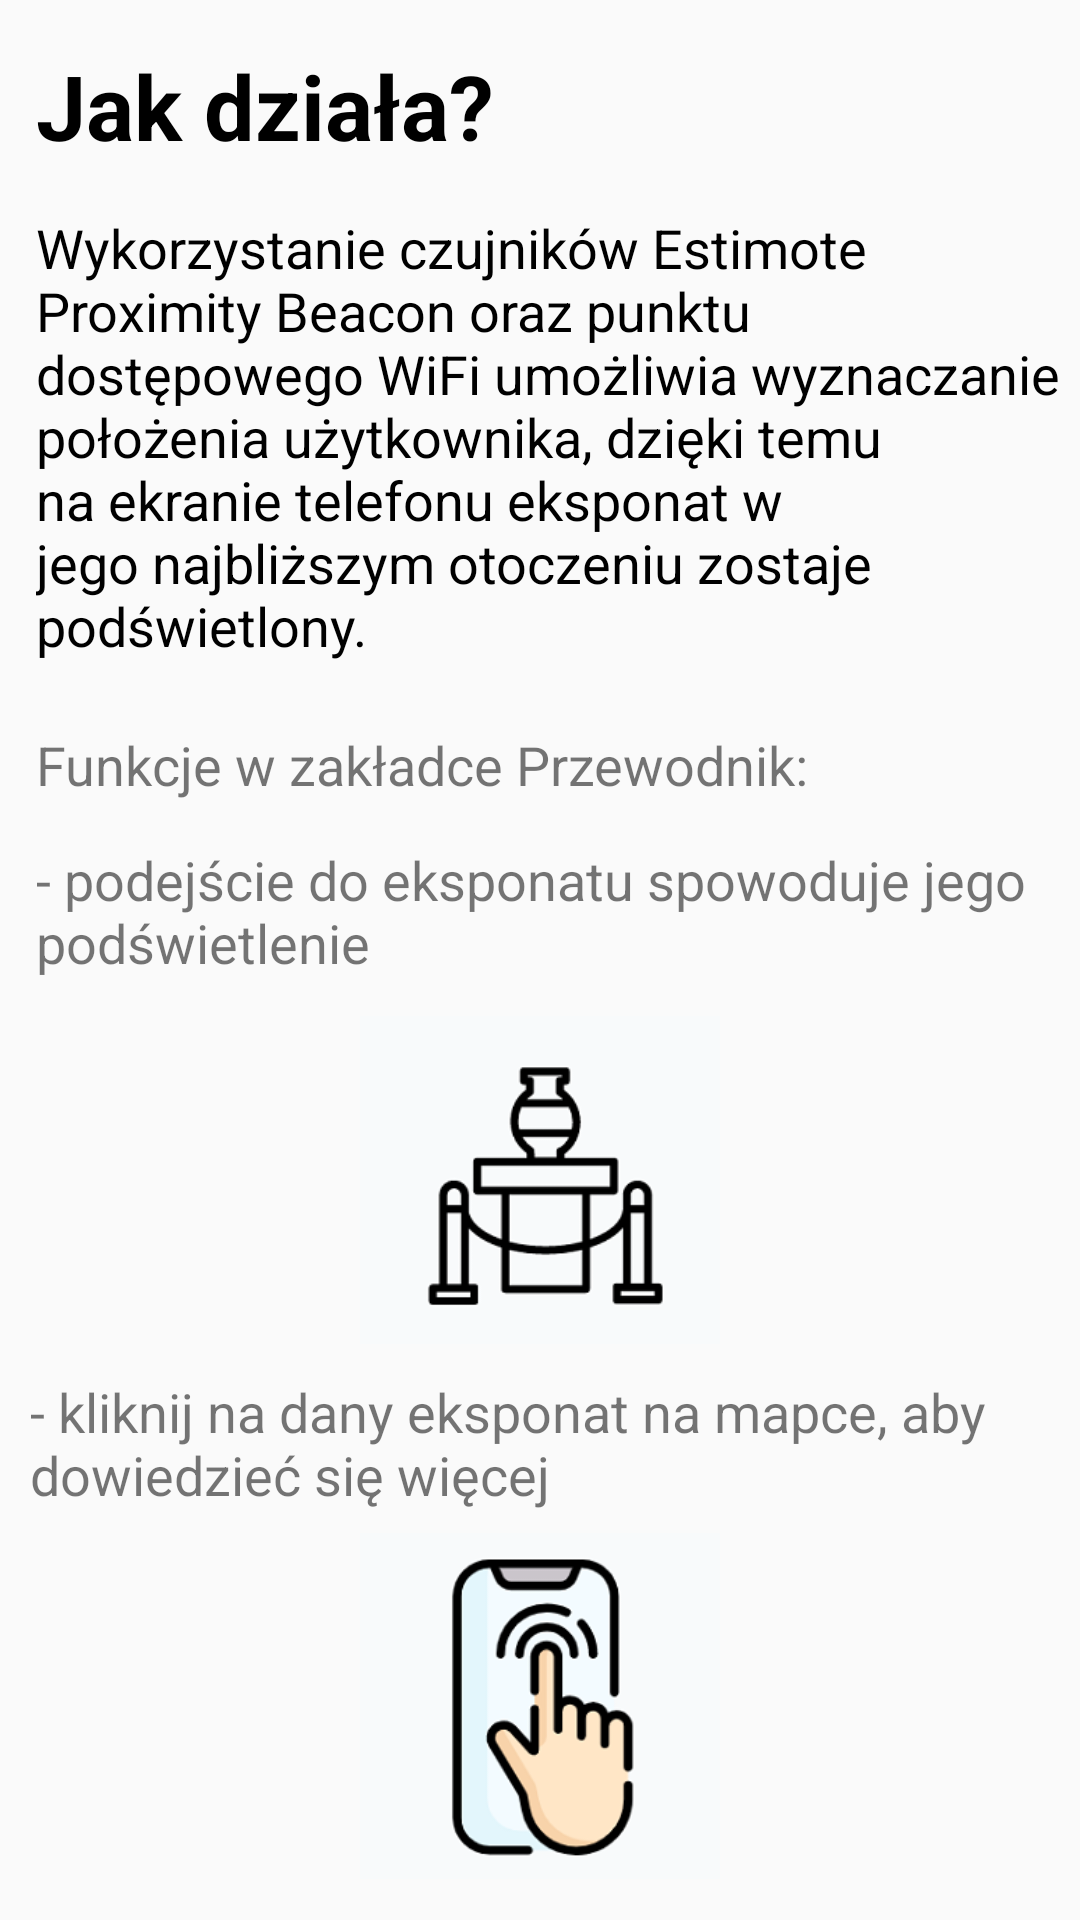

Where to tap for icons on this 1080w x 1920h app screen, as point (x, y):
click info: point (543, 1707)
podejdz info: point (545, 1186)
